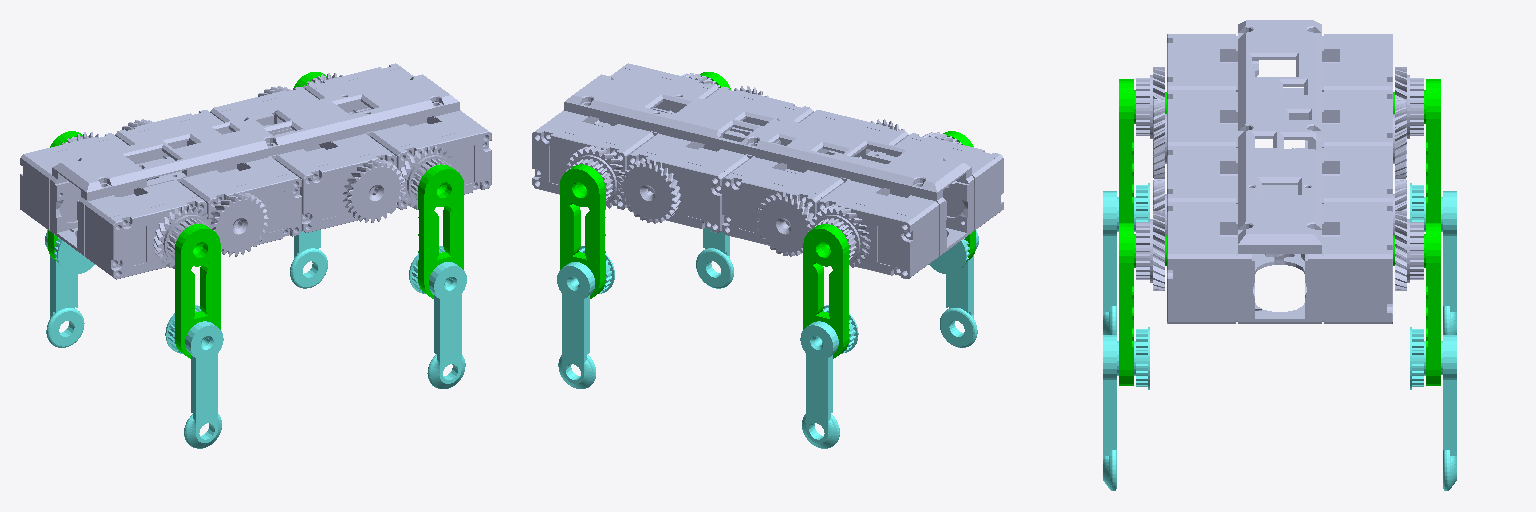
robot.urdf — miniq:
<?xml version="1.0" encoding="utf-8"?>
<!-- This URDF was automatically created by SolidWorks to URDF Exporter! Originally created by Stephen Brawner (brawner@gmail.com) 
     Commit Version: 1.6.0-4-g7f85cfe  Build Version: 1.6.7995.38578
     For more information, please see http://wiki.ros.org/sw_urdf_exporter -->
<robot
  name="miniq">
  <link
    name="base_link">
    <inertial>
      <origin
        xyz="0.00015626 0.010712 -8.5813E-07"
        rpy="0 0 0" />
      <mass
        value="0.12291" />
      <inertia
        ixx="6.692E-06"
        ixy="1.9795E-08"
        ixz="-3.4543E-08"
        iyy="4.319E-05"
        iyz="-1.796E-09"
        izz="4.4066E-05" />
    </inertial>
    <visual>
      <origin
        xyz="0 0 0"
        rpy="0 0 0" />
      <geometry>
        <mesh
          filename="../meshes/base_link.STL" />
      </geometry>
      <material
        name="">
        <color
          rgba="0.79216 0.81961 0.93333 1" />
      </material>
    </visual>
    <collision>
      <origin
        xyz="0 0 0"
        rpy="0 0 0" />
      <geometry>
        <mesh
          filename="../meshes/base_link.STL" />
      </geometry>
    </collision>
  </link>
  <link
    name="fr_upper">
    <inertial>
      <origin
        xyz="-5.4416E-11 -0.0092063 0.012443"
        rpy="0 0 0" />
      <mass
        value="0.0019562" />
      <inertia
        ixx="2.8174E-07"
        ixy="7.2805E-16"
        ixz="-1.0061E-15"
        iyy="5.8363E-08"
        iyz="3.0151E-08"
        izz="2.9294E-07" />
    </inertial>
    <visual>
      <origin
        xyz="0 0 0"
        rpy="0 0 0" />
      <geometry>
        <mesh
          filename="../meshes/fr_upper.STL" />
      </geometry>
      <material
        name="">
        <color
          rgba="0 1 0 1" />
      </material>
    </visual>
    <collision>
      <origin
        xyz="0 0 0"
        rpy="0 0 0" />
      <geometry>
        <mesh
          filename="../meshes/fr_upper.STL" />
      </geometry>
    </collision>
  </link>
  <joint
    name="fr_joint0"
    type="revolute">
    <origin
      xyz="0.04425 -0.0259 0.01"
      rpy="1.5708 0 0" />
    <parent
      link="base_link" />
    <child
      link="fr_upper" />
    <axis
      xyz="0 0 -1" />
    <limit
      lower="-3217"
      upper="3217"
      effort="10"
      velocity="100" />
  </joint>
  <link
    name="fr_lower">
    <inertial>
      <origin
        xyz="-1.0328E-08 -0.0085258 -0.0030811"
        rpy="0 0 0" />
      <mass
        value="0.0020783" />
      <inertia
        ixx="2.1923E-07"
        ixy="-5.8347E-13"
        ixz="2.8786E-14"
        iyy="2.4002E-08"
        iyz="3.169E-09"
        izz="2.3531E-07" />
    </inertial>
    <visual>
      <origin
        xyz="0 0 0"
        rpy="0 0 0" />
      <geometry>
        <mesh
          filename="../meshes/fr_lower.STL" />
      </geometry>
      <material
        name="">
        <color
          rgba="0.50196 1 1 1" />
      </material>
    </visual>
    <collision>
      <origin
        xyz="0 0 0"
        rpy="0 0 0" />
      <geometry>
        <mesh
          filename="../meshes/fr_lower.STL" />
      </geometry>
    </collision>
  </link>
  <joint
    name="fr_joint1"
    type="revolute">
    <origin
      xyz="0 -0.03075 0.01825"
      rpy="0 0 0" />
    <parent
      link="fr_upper" />
    <child
      link="fr_lower" />
    <axis
      xyz="0 0 1" />
    <limit
      lower="-3217"
      upper="3217"
      effort="10"
      velocity="100" />
  </joint>
  <link
    name="fl_upper">
    <inertial>
      <origin
        xyz="-5.4416E-11 -0.0092063 0.012443"
        rpy="0 0 0" />
      <mass
        value="0.0019562" />
      <inertia
        ixx="2.8174E-07"
        ixy="7.2805E-16"
        ixz="-1.0061E-15"
        iyy="5.8363E-08"
        iyz="3.0151E-08"
        izz="2.9294E-07" />
    </inertial>
    <visual>
      <origin
        xyz="0 0 0"
        rpy="0 0 0" />
      <geometry>
        <mesh
          filename="../meshes/fl_upper.STL" />
      </geometry>
      <material
        name="">
        <color
          rgba="0 1 0 1" />
      </material>
    </visual>
    <collision>
      <origin
        xyz="0 0 0"
        rpy="0 0 0" />
      <geometry>
        <mesh
          filename="../meshes/fl_upper.STL" />
      </geometry>
    </collision>
  </link>
  <joint
    name="fl_joint0"
    type="revolute">
    <origin
      xyz="0.04425 0.0259 0.01"
      rpy="1.5708 0 3.1416" />
    <parent
      link="base_link" />
    <child
      link="fl_upper" />
    <axis
      xyz="0 0 1" />
    <limit
      lower="-3217"
      upper="3217"
      effort="10"
      velocity="100" />
  </joint>
  <link
    name="fl_lower">
    <inertial>
      <origin
        xyz="-1.0328E-08 -0.0085258 -0.0030811"
        rpy="0 0 0" />
      <mass
        value="0.0020783" />
      <inertia
        ixx="2.1923E-07"
        ixy="-5.8347E-13"
        ixz="2.8786E-14"
        iyy="2.4002E-08"
        iyz="3.169E-09"
        izz="2.3531E-07" />
    </inertial>
    <visual>
      <origin
        xyz="0 0 0"
        rpy="0 0 0" />
      <geometry>
        <mesh
          filename="../meshes/fl_lower.STL" />
      </geometry>
      <material
        name="">
        <color
          rgba="0.50196 1 1 1" />
      </material>
    </visual>
    <collision>
      <origin
        xyz="0 0 0"
        rpy="0 0 0" />
      <geometry>
        <mesh
          filename="../meshes/fl_lower.STL" />
      </geometry>
    </collision>
  </link>
  <joint
    name="fl_joint1"
    type="revolute">
    <origin
      xyz="0 -0.03075 0.01825"
      rpy="0 0 0" />
    <parent
      link="fl_upper" />
    <child
      link="fl_lower" />
    <axis
      xyz="0 0 -1" />
    <limit
      lower="-3217"
      upper="3217"
      effort="10"
      velocity="100" />
  </joint>
  <link
    name="br_upper">
    <inertial>
      <origin
        xyz="-5.4416E-11 -0.0092063 0.012443"
        rpy="0 0 0" />
      <mass
        value="0.0019562" />
      <inertia
        ixx="2.8174E-07"
        ixy="7.2805E-16"
        ixz="-1.0061E-15"
        iyy="5.8363E-08"
        iyz="3.0151E-08"
        izz="2.9294E-07" />
    </inertial>
    <visual>
      <origin
        xyz="0 0 0"
        rpy="0 0 0" />
      <geometry>
        <mesh
          filename="../meshes/br_upper.STL" />
      </geometry>
      <material
        name="">
        <color
          rgba="0 1 0 1" />
      </material>
    </visual>
    <collision>
      <origin
        xyz="0 0 0"
        rpy="0 0 0" />
      <geometry>
        <mesh
          filename="../meshes/br_upper.STL" />
      </geometry>
    </collision>
  </link>
  <joint
    name="br_joint0"
    type="revolute">
    <origin
      xyz="-0.04425 -0.0259 0.01"
      rpy="1.5708 0 0" />
    <parent
      link="base_link" />
    <child
      link="br_upper" />
    <axis
      xyz="0 0 -1" />
    <limit
      lower="-3217"
      upper="3217"
      effort="10"
      velocity="100" />
  </joint>
  <link
    name="br_lower">
    <inertial>
      <origin
        xyz="-1.0328E-08 -0.0085258 -0.0030811"
        rpy="0 0 0" />
      <mass
        value="0.0020783" />
      <inertia
        ixx="2.1923E-07"
        ixy="-5.8347E-13"
        ixz="2.8786E-14"
        iyy="2.4002E-08"
        iyz="3.169E-09"
        izz="2.3531E-07" />
    </inertial>
    <visual>
      <origin
        xyz="0 0 0"
        rpy="0 0 0" />
      <geometry>
        <mesh
          filename="../meshes/br_lower.STL" />
      </geometry>
      <material
        name="">
        <color
          rgba="0.50196 1 1 1" />
      </material>
    </visual>
    <collision>
      <origin
        xyz="0 0 0"
        rpy="0 0 0" />
      <geometry>
        <mesh
          filename="../meshes/br_lower.STL" />
      </geometry>
    </collision>
  </link>
  <joint
    name="br_joint1"
    type="revolute">
    <origin
      xyz="0 -0.03075 0.01825"
      rpy="0 0 0" />
    <parent
      link="br_upper" />
    <child
      link="br_lower" />
    <axis
      xyz="0 0 1" />
    <limit
      lower="-3217"
      upper="3217"
      effort="10"
      velocity="100" />
  </joint>
  <link
    name="bl_upper">
    <inertial>
      <origin
        xyz="-5.4416E-11 -0.0092063 0.012443"
        rpy="0 0 0" />
      <mass
        value="0.0019562" />
      <inertia
        ixx="2.8174E-07"
        ixy="7.2805E-16"
        ixz="-1.0061E-15"
        iyy="5.8363E-08"
        iyz="3.0151E-08"
        izz="2.9294E-07" />
    </inertial>
    <visual>
      <origin
        xyz="0 0 0"
        rpy="0 0 0" />
      <geometry>
        <mesh
          filename="../meshes/bl_upper.STL" />
      </geometry>
      <material
        name="">
        <color
          rgba="0 1 0 1" />
      </material>
    </visual>
    <collision>
      <origin
        xyz="0 0 0"
        rpy="0 0 0" />
      <geometry>
        <mesh
          filename="../meshes/bl_upper.STL" />
      </geometry>
    </collision>
  </link>
  <joint
    name="bl_joint0"
    type="revolute">
    <origin
      xyz="-0.04425 0.0259 0.01"
      rpy="1.5708 0 3.1416" />
    <parent
      link="base_link" />
    <child
      link="bl_upper" />
    <axis
      xyz="0 0 1" />
    <limit
      lower="-3217"
      upper="3217"
      effort="10"
      velocity="100" />
  </joint>
  <link
    name="bl_lower">
    <inertial>
      <origin
        xyz="-1.0328E-08 -0.0085258 -0.0030811"
        rpy="0 0 0" />
      <mass
        value="0.0020783" />
      <inertia
        ixx="2.1923E-07"
        ixy="-5.8347E-13"
        ixz="2.8786E-14"
        iyy="2.4002E-08"
        iyz="3.169E-09"
        izz="2.3531E-07" />
    </inertial>
    <visual>
      <origin
        xyz="0 0 0"
        rpy="0 0 0" />
      <geometry>
        <mesh
          filename="../meshes/bl_lower.STL" />
      </geometry>
      <material
        name="">
        <color
          rgba="0.50196 1 1 1" />
      </material>
    </visual>
    <collision>
      <origin
        xyz="0 0 0"
        rpy="0 0 0" />
      <geometry>
        <mesh
          filename="../meshes/bl_lower.STL" />
      </geometry>
    </collision>
  </link>
  <joint
    name="bl_joint1"
    type="revolute">
    <origin
      xyz="0 -0.03075 0.01825"
      rpy="0 0 0" />
    <parent
      link="bl_upper" />
    <child
      link="bl_lower" />
    <axis
      xyz="0 0 -1" />
    <limit
      lower="-3217"
      upper="3217"
      effort="10"
      velocity="100" />
  </joint>
</robot>

--- What the picture shows (computed from the rendered views, not written in the file) ---
The picture shows the robot from 3 angles, left to right: view 1: azimuth 30°, elevation 25°; view 2: azimuth 150°, elevation 25°; view 3: azimuth 270°, elevation 25°; orthographic projection.
Robot: miniq — 9 links, 8 joints (8 revolute); root link base_link; default pose: every joint at zero.
Visible links, largest first — view 1: base_link, br_upper, fr_upper, fr_lower, br_lower, bl_lower, fl_lower; view 2: base_link, bl_upper, fl_upper, fl_lower, bl_lower, br_lower, fr_lower; view 3: base_link, fr_lower, fl_lower, br_lower, bl_lower, fr_upper, fl_upper, br_upper, bl_upper.
Link boxes in pixels (x1=…): base_link: x1=20, y1=63, x2=491, y2=279; br_upper: x1=175, y1=224, x2=220, y2=358; fr_upper: x1=418, y1=164, x2=463, y2=298; fr_lower: x1=409, y1=246, x2=466, y2=388; br_lower: x1=165, y1=305, x2=223, y2=448; bl_lower: x1=45, y1=230, x2=94, y2=347; fl_lower: x1=290, y1=230, x2=327, y2=288; base_link: x1=532, y1=63, x2=1003, y2=278; bl_upper: x1=803, y1=224, x2=848, y2=358; fl_upper: x1=560, y1=164, x2=605, y2=298; fl_lower: x1=557, y1=246, x2=614, y2=388; bl_lower: x1=800, y1=305, x2=858, y2=448; br_lower: x1=929, y1=230, x2=978, y2=347; fr_lower: x1=696, y1=228, x2=733, y2=288; base_link: x1=1136, y1=20, x2=1423, y2=323; fr_lower: x1=1103, y1=327, x2=1149, y2=490; fl_lower: x1=1410, y1=327, x2=1456, y2=490; br_lower: x1=1103, y1=183, x2=1149, y2=334; bl_lower: x1=1410, y1=183, x2=1456, y2=334; fr_upper: x1=1119, y1=223, x2=1166, y2=385; fl_upper: x1=1393, y1=223, x2=1440, y2=385; br_upper: x1=1119, y1=79, x2=1166, y2=222; bl_upper: x1=1393, y1=79, x2=1440, y2=222.
Size in the robot's own frame: 0.1375 by 0.0918 by 0.0831 metres.
9 mesh visuals loaded from 9 distinct referenced files (9 binary STL).
